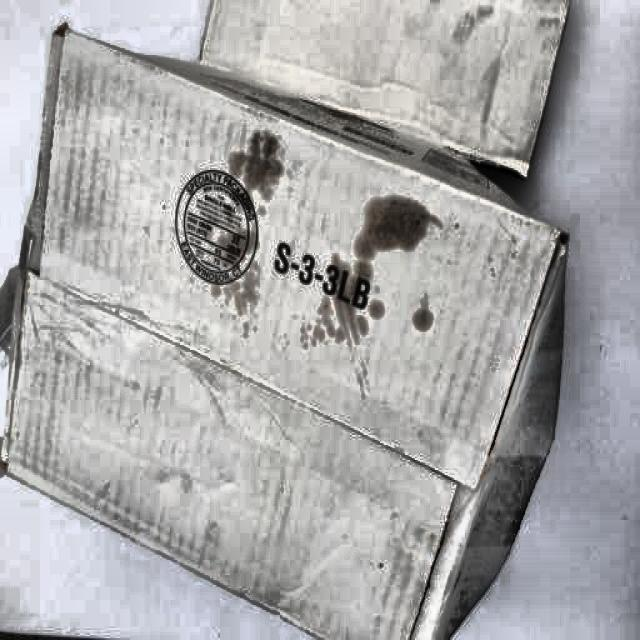cardboard: (19, 17, 584, 578)
